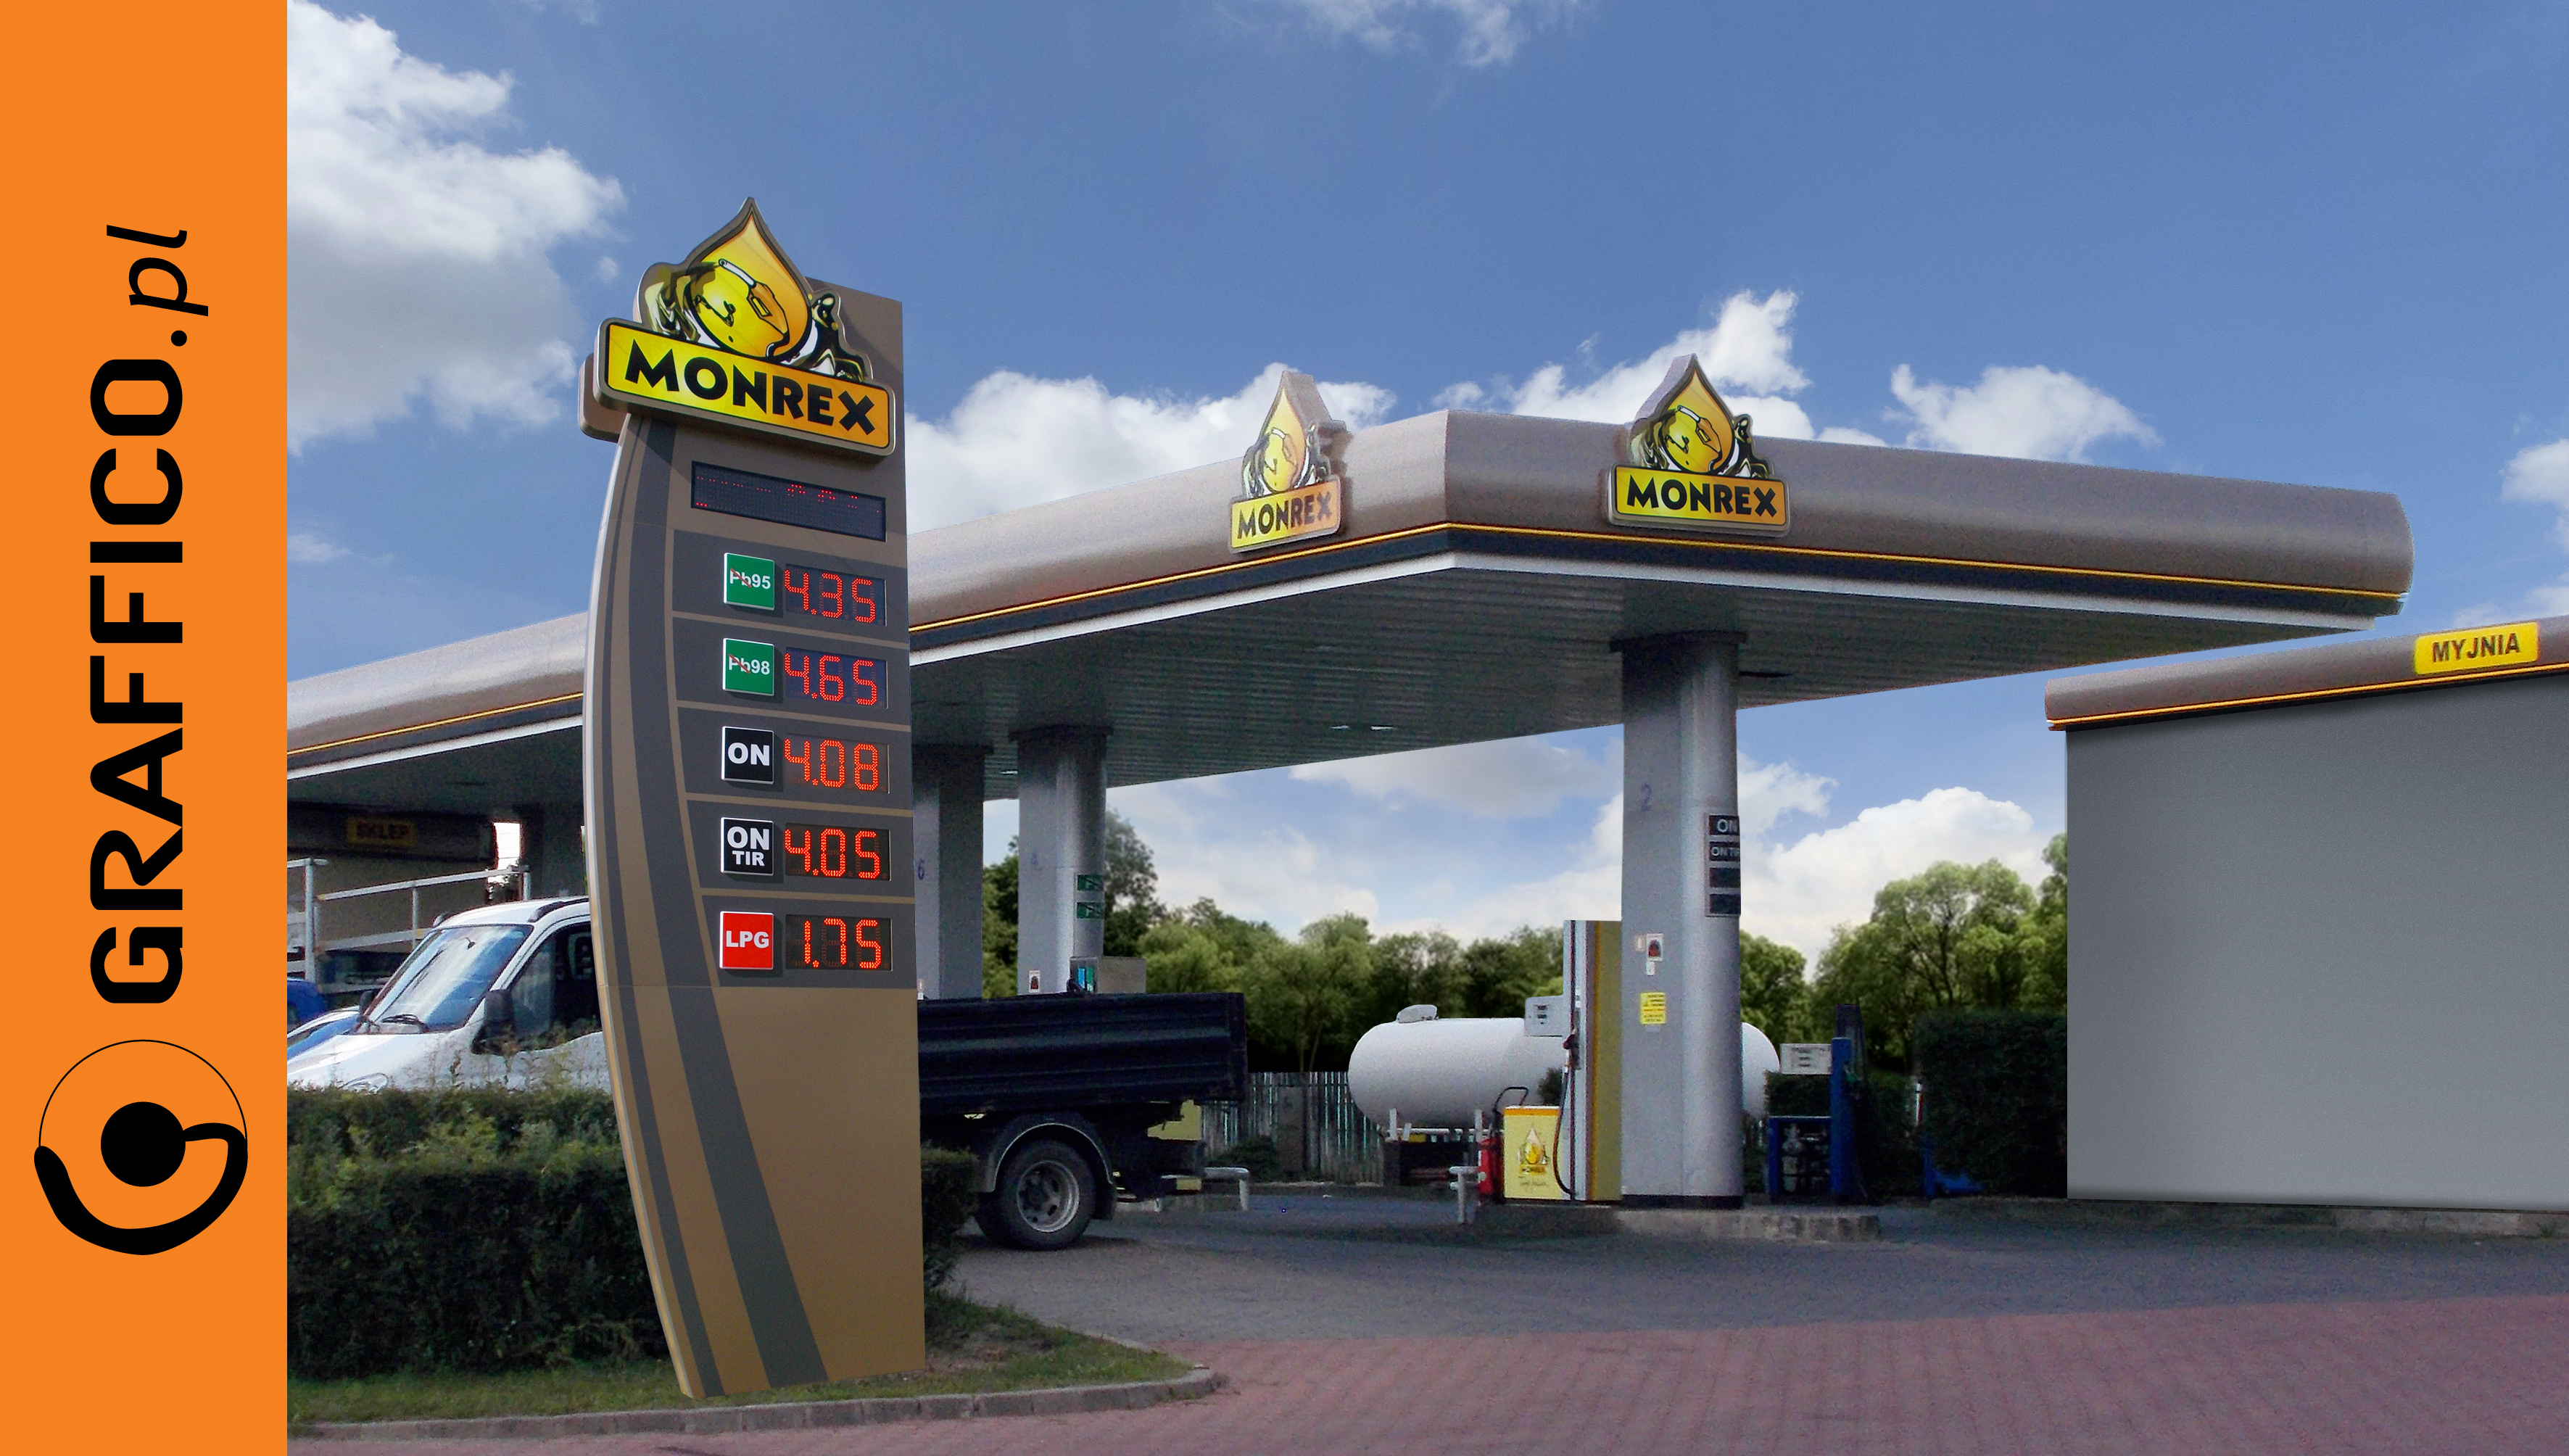LPG: (715, 905, 776, 972)
ON: (715, 713, 778, 789), (715, 808, 780, 881)
PB95: (715, 552, 783, 611)
PB98: (716, 628, 778, 702)
